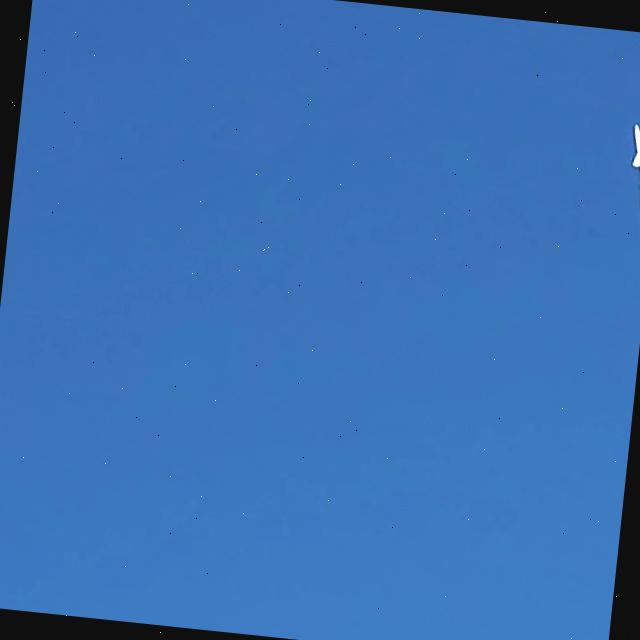rocket: (631, 123, 640, 175)
